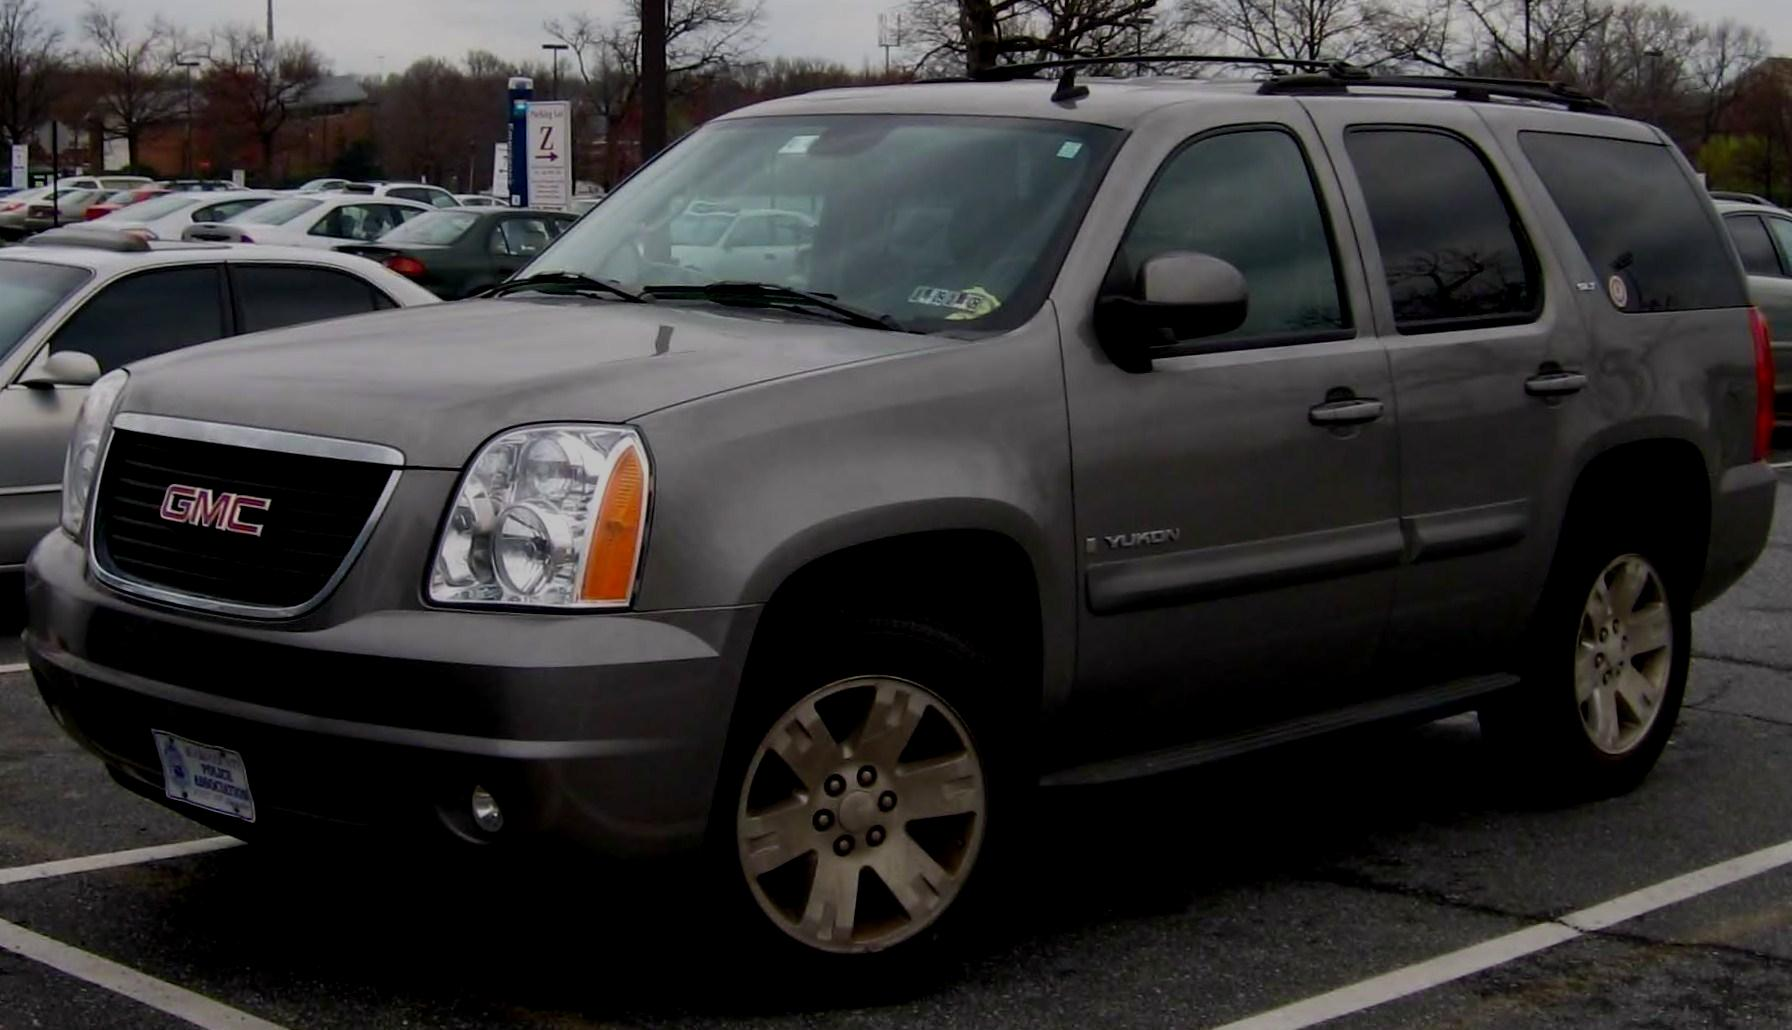GMC: (134, 466, 300, 556)
